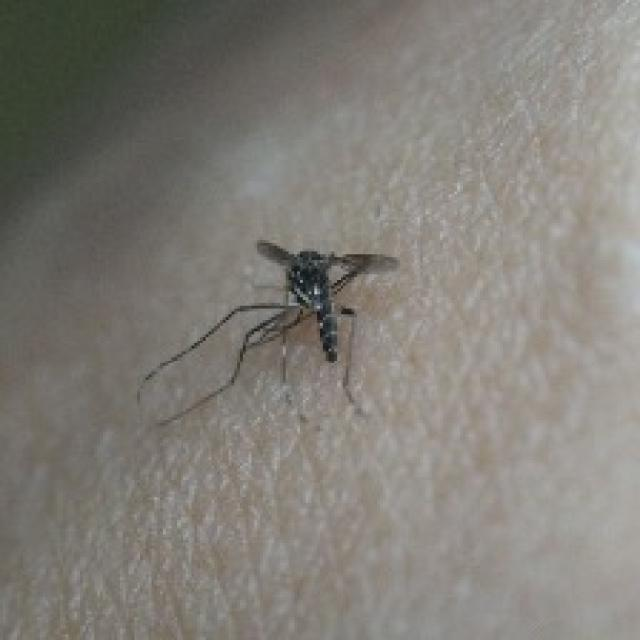aedes: (134, 234, 400, 429)
